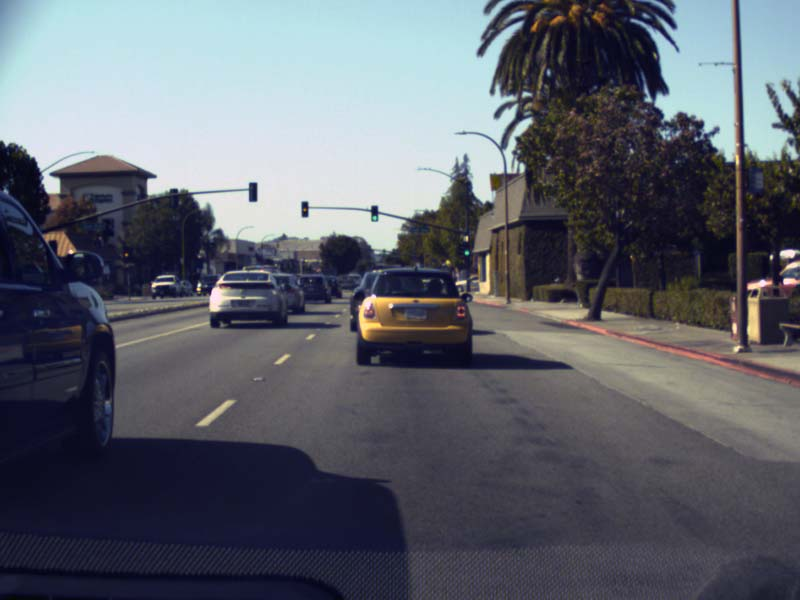Green: (462, 243, 471, 260), (370, 205, 378, 221)
Yellow: (123, 247, 131, 262), (301, 201, 308, 217)
